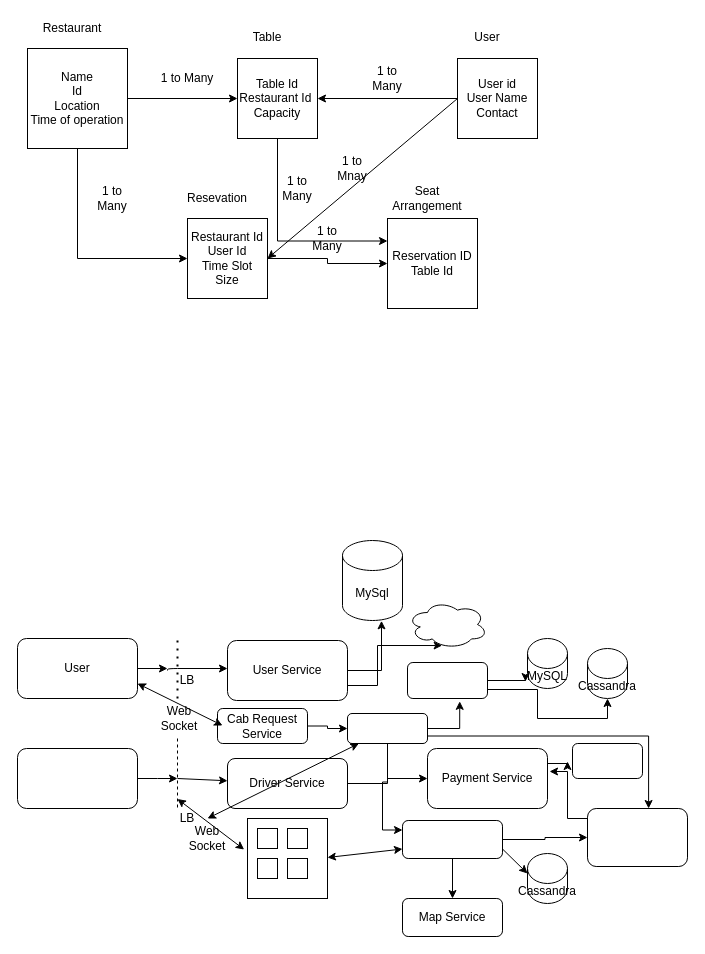
Image size: 705x954. Some labels were removed from this diagram. The shapes that lost their labels are listed below. From the top down, each one's box as (x1, y1, x2, y2) in pixels, then its label:
(406, 600, 488, 648): Redis
(406, 662, 488, 698): Trip Service
(346, 712, 428, 744): Cab Finder
(16, 748, 138, 808): Driver
(572, 742, 642, 778): Payment Gateway
(402, 820, 502, 858): Location Service
(586, 808, 688, 866): KAfka
